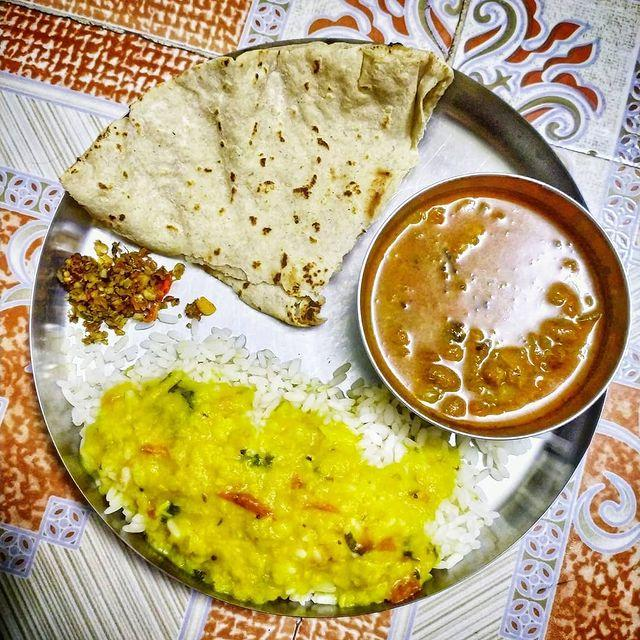Roti: (42, 42, 460, 327)
